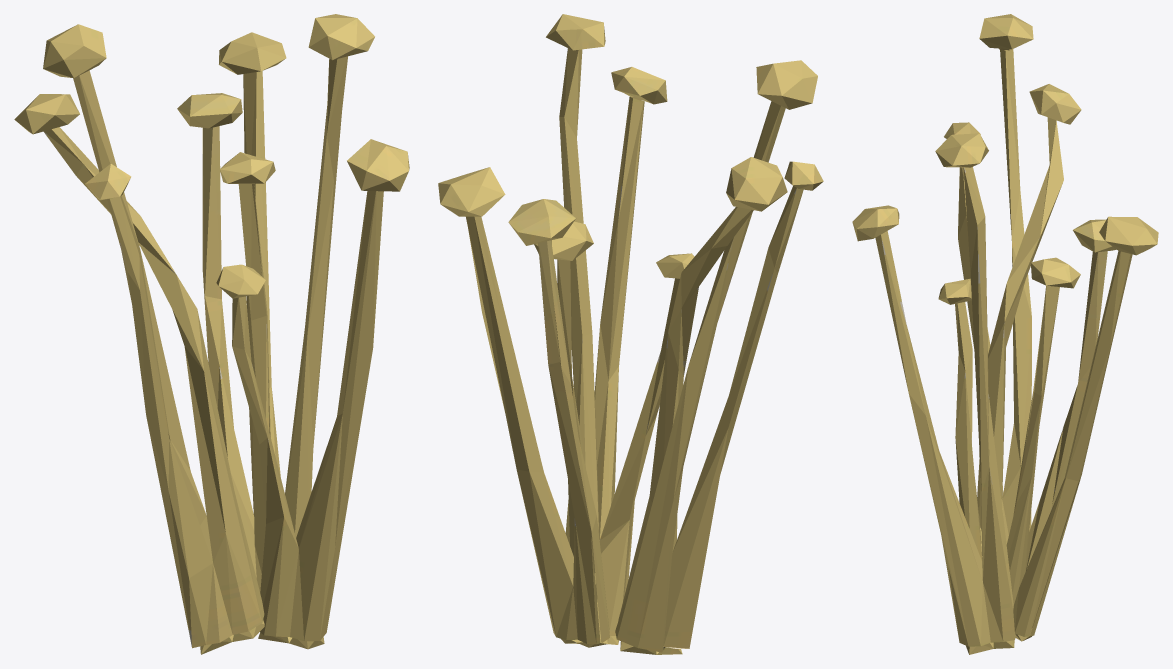
Rendered from P_Jingzhenggu_02.obj.
3 renders of one model, left to right at view 1: azimuth 30°, elevation 25°; view 2: azimuth 150°, elevation 25°; view 3: azimuth 270°, elevation 25°, orthographic. The views are drawn at different scales.
Size of the model in its own units: 0.4766 by 0.9527 by 0.4831.
3 materials, 3 textured.
